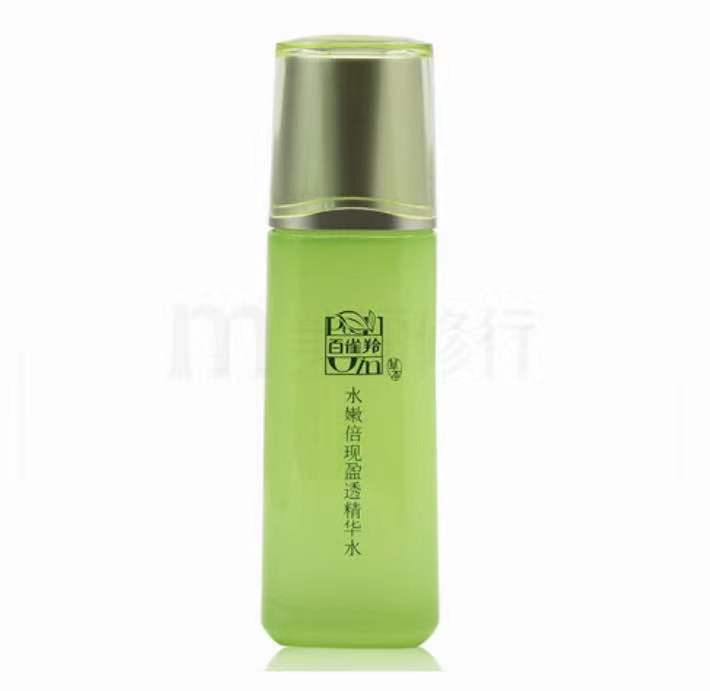cosmetic: (269, 37, 442, 633)
